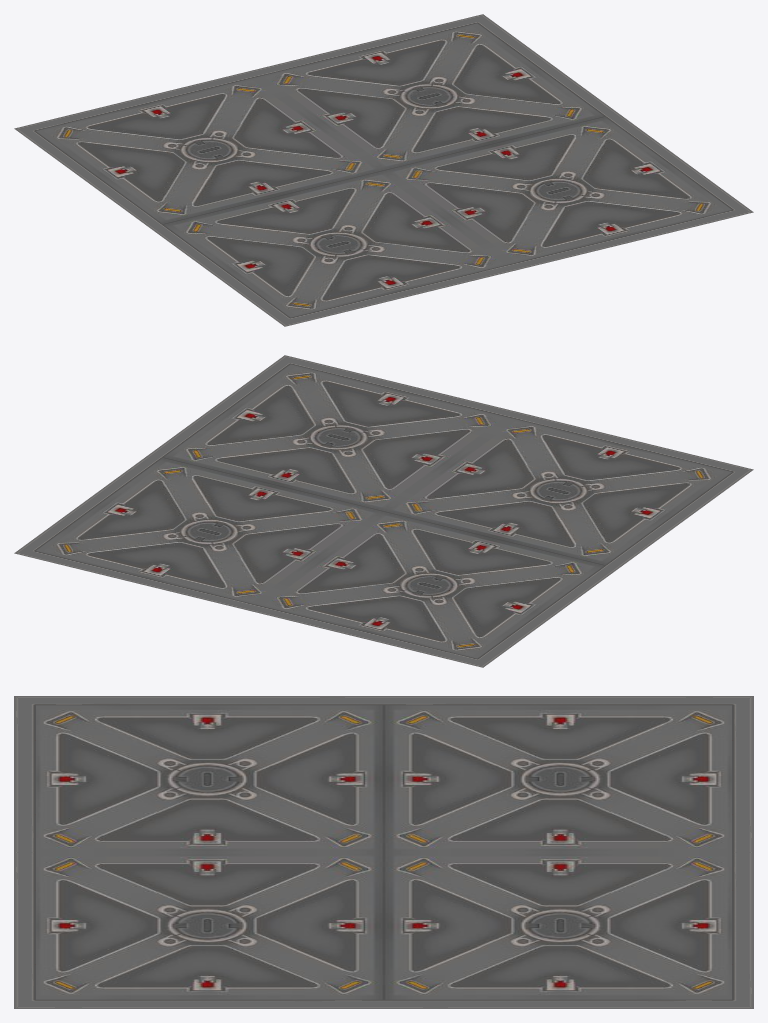
File: platform_x.gltf
3 views of the same model, one above another, from view 1: azimuth 30°, elevation 25°; view 2: azimuth 150°, elevation 25°; view 3: azimuth 270°, elevation 25° (orthographic). The views are drawn at different scales.
Parts seen in each view (by area): view 1: Platform_X; view 2: Platform_X; view 3: Platform_X.
Boxes of the visible parts, x1=… form: Platform_X: x1=14, y1=14, x2=753, y2=326; Platform_X: x1=14, y1=355, x2=753, y2=667; Platform_X: x1=14, y1=696, x2=753, y2=1008.
Size of the model in its own units: 4 by 0 by 4.
1 material, 1 textured.
